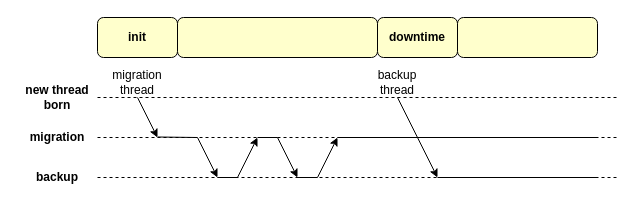
Image size: 636x215. Some labels were removed from this diagram. The shapes that lost their labels are listed below. From the top down, each one's centre as x and y in pixels, then its label:
the point at 277,37: Pre-Copy
the point at 527,37: Post-Copy
